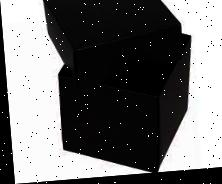cube: (53, 35, 198, 181)
